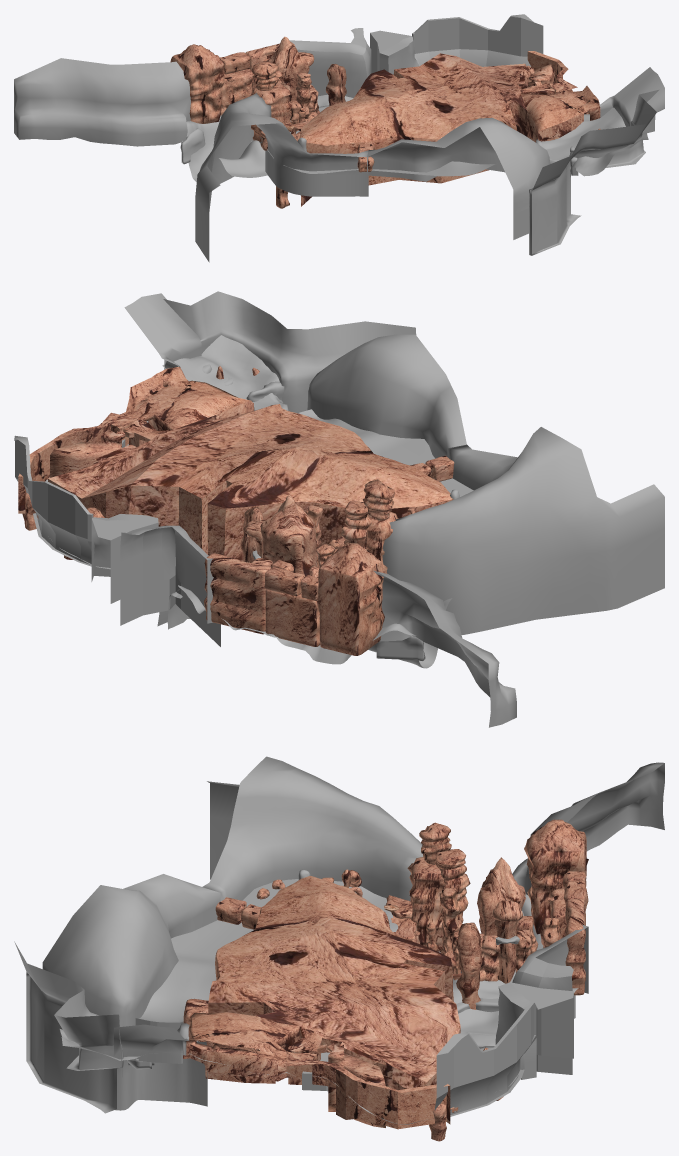
The model's file is CanyonV11.fbx.
The picture shows the model from 3 angles, top to bottom: view 1: azimuth 30°, elevation 25°; view 2: azimuth 150°, elevation 25°; view 3: azimuth 270°, elevation 25°; orthographic projection. The views are drawn at different scales.
Parts seen in each view (by area): view 1: polySurface22, pCube46, polySurface10, polySurface9, pCube76, pCube102, polySurface13, pCube25, rockwall_a00, pCube125, polySurface5, pCube64 (+13 smaller); view 2: polySurface10, polySurface22, polySurface9, pCube76, pCube25, rockwall_a00, pCube46, polySurface13, pCube102, rockwall_a03, pCube125, rockwall_b09 (+14 smaller); view 3: polySurface22, polySurface10, polySurface9, pCube76, polySurface13, pCube102, polySurface16, pCube46, polySurface18, pCube47, pCube125, rockwall_a00 (+17 smaller).
Boxes of the visible parts, x1,y1,x2,y2 form: polySurface22: (299,53,531,206); pCube46: (14,58,190,146); polySurface10: (195,93,368,262); polySurface9: (367,117,550,239); pCube76: (529,89,659,255); pCube102: (412,14,543,66); polySurface13: (521,86,600,142); pCube25: (289,28,371,97); rockwall_a00: (170,44,224,123); pCube125: (536,107,648,176); polySurface5: (182,94,353,181); pCube64: (599,67,664,126); polySurface10: (382,427,664,634); polySurface22: (48,404,453,561); polySurface9: (307,334,466,458); pCube76: (163,291,416,413); pCube25: (120,525,220,646); rockwall_a00: (316,543,387,655); pCube46: (373,570,516,727); polySurface13: (120,366,254,430); pCube102: (14,435,94,566); rockwall_a03: (204,553,271,634); pCube125: (162,335,288,410); rockwall_b09: (260,495,316,576); polySurface22: (208,876,460,1089); polySurface10: (202,756,422,901); polySurface9: (42,874,220,1026); pCube76: (14,941,123,1113); polySurface13: (183,1012,299,1082); pCube102: (434,1002,537,1116); polySurface16: (286,1051,450,1129); pCube46: (512,762,664,895); polySurface18: (135,920,254,1030); pCube47: (495,982,573,1079); pCube125: (59,1023,207,1110); rockwall_a00: (524,819,588,934).
Size of the model in its own units: 58783 by 15731 by 51655.
